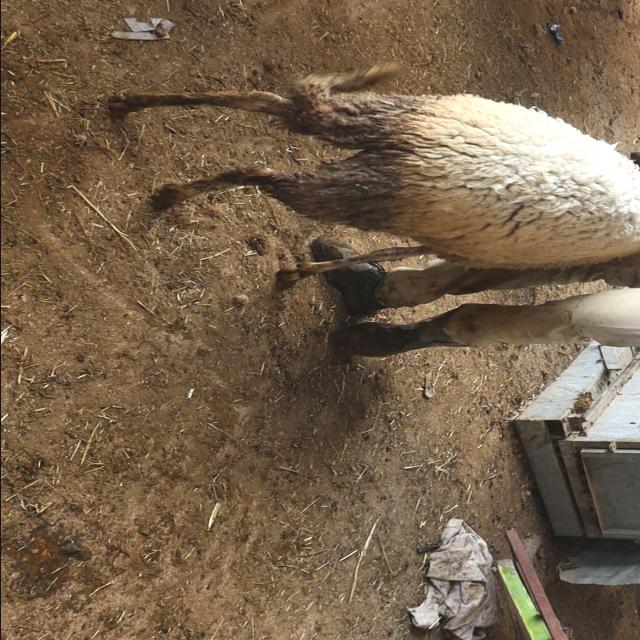Score_3: (108, 64, 640, 281)
